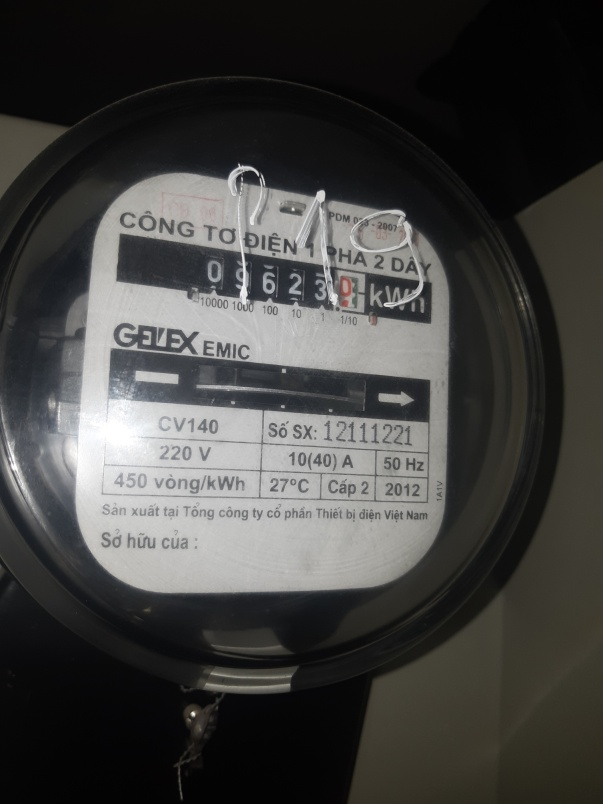counter: (130, 253, 446, 318)
electricity_meter: (6, 95, 559, 654)
